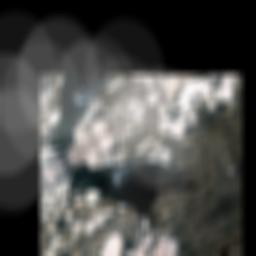Crow: (58, 99, 215, 256)
